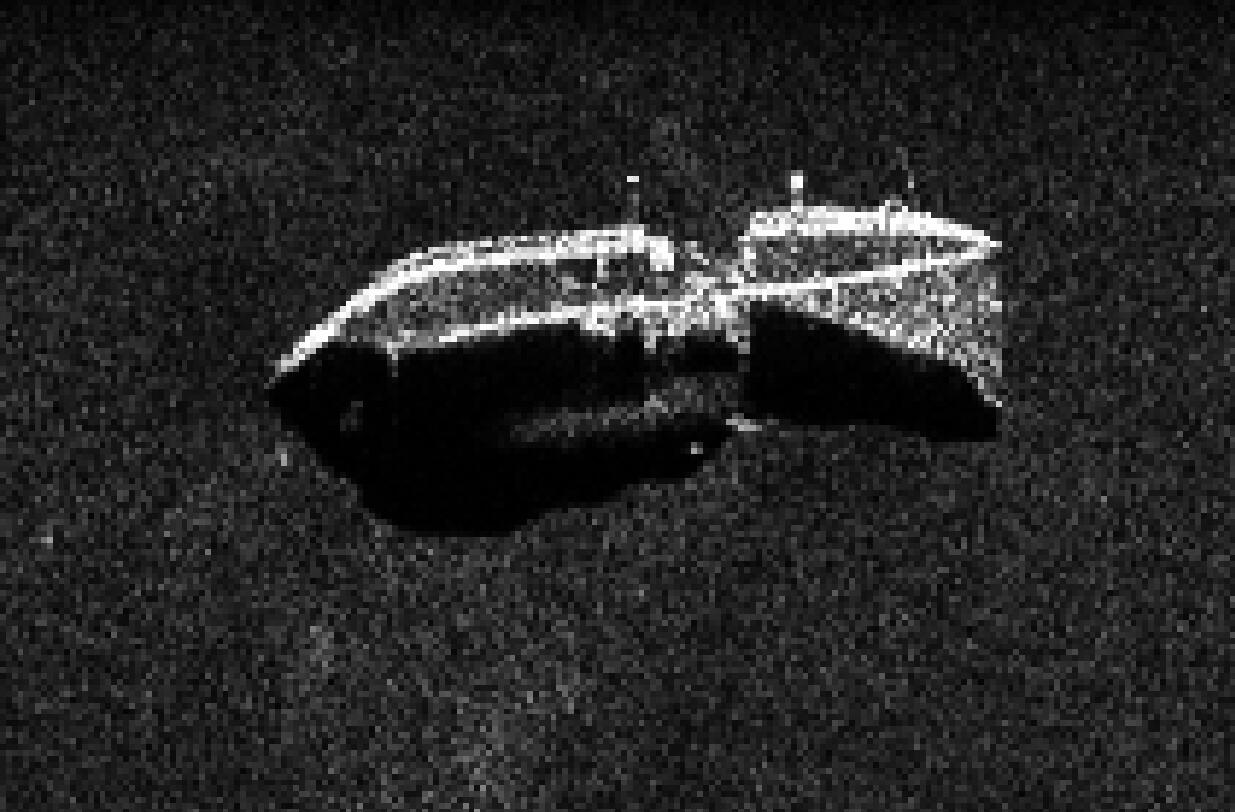ship: (273, 204, 1012, 429)
